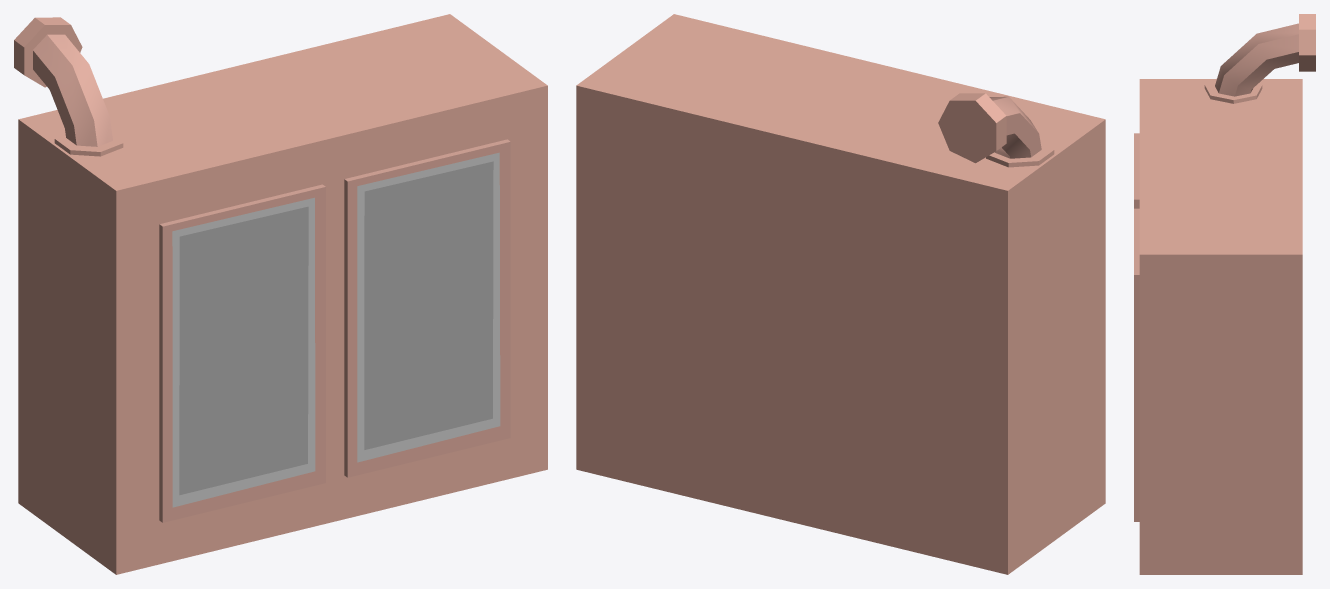
The model's file is fire.fbx.
The picture shows the model from 3 angles, left to right: view 1: azimuth 30°, elevation 25°; view 2: azimuth 150°, elevation 25°; view 3: azimuth 270°, elevation 25°; orthographic projection. The views are drawn at different scales.
Parts seen in each view (by area): view 1: Cylinder_3; view 2: Cylinder_3; view 3: Cylinder_3.
Part boxes in pixels (left/top/right/bottom): Cylinder_3: left=14, top=14, right=547, bottom=574; Cylinder_3: left=576, top=14, right=1105, bottom=574; Cylinder_3: left=1134, top=14, right=1315, bottom=574.
Bounding box in the file's own units: 85.87 × 90.12 × 37.55.
